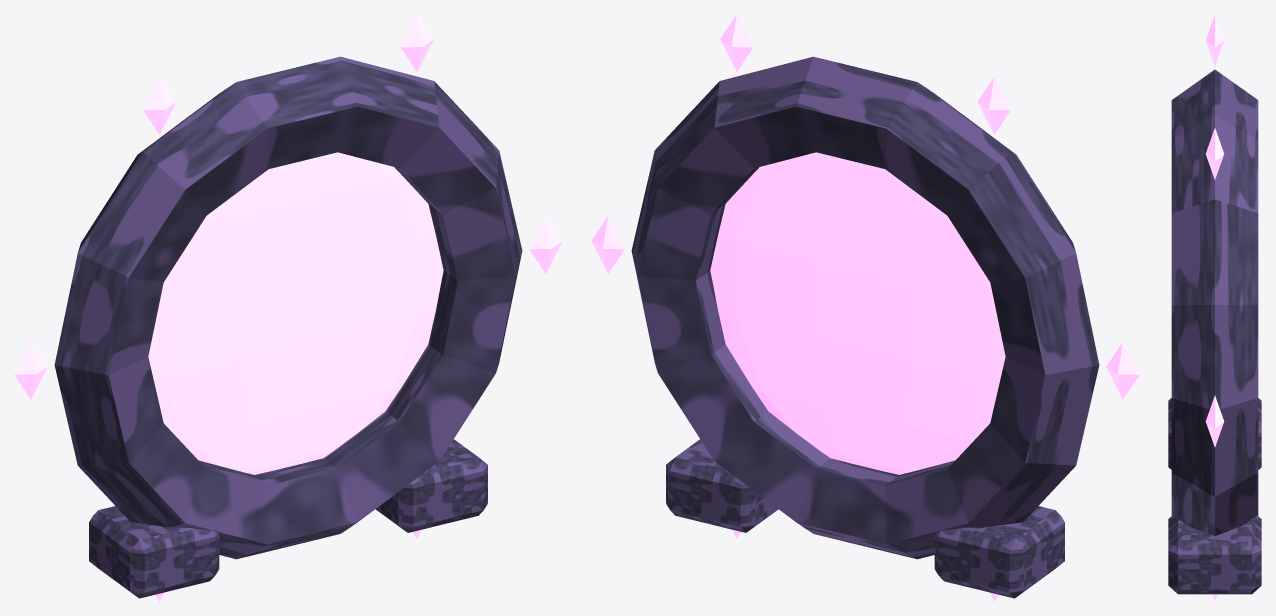
File: NebulaPortal.fbx
3 renders of one model, left to right at view 1: azimuth 30°, elevation 25°; view 2: azimuth 150°, elevation 25°; view 3: azimuth 270°, elevation 25°, orthographic. The views are drawn at different scales.
Visible parts, largest first — view 1: NebulaPortal, NebulaPortal_Glow; view 2: NebulaPortal, NebulaPortal_Glow; view 3: NebulaPortal, NebulaPortal_Glow.
Boxes of the visible parts, x1,y1,x2,y2 form: NebulaPortal: [54, 56, 522, 598]; NebulaPortal_Glow: [14, 14, 562, 601]; NebulaPortal: [631, 56, 1099, 598]; NebulaPortal_Glow: [591, 14, 1139, 601]; NebulaPortal: [1168, 69, 1261, 594]; NebulaPortal_Glow: [1205, 14, 1224, 601].
Size of the model in its own units: 490 by 448 by 80.
Materials: 2 (1 with a texture image).
